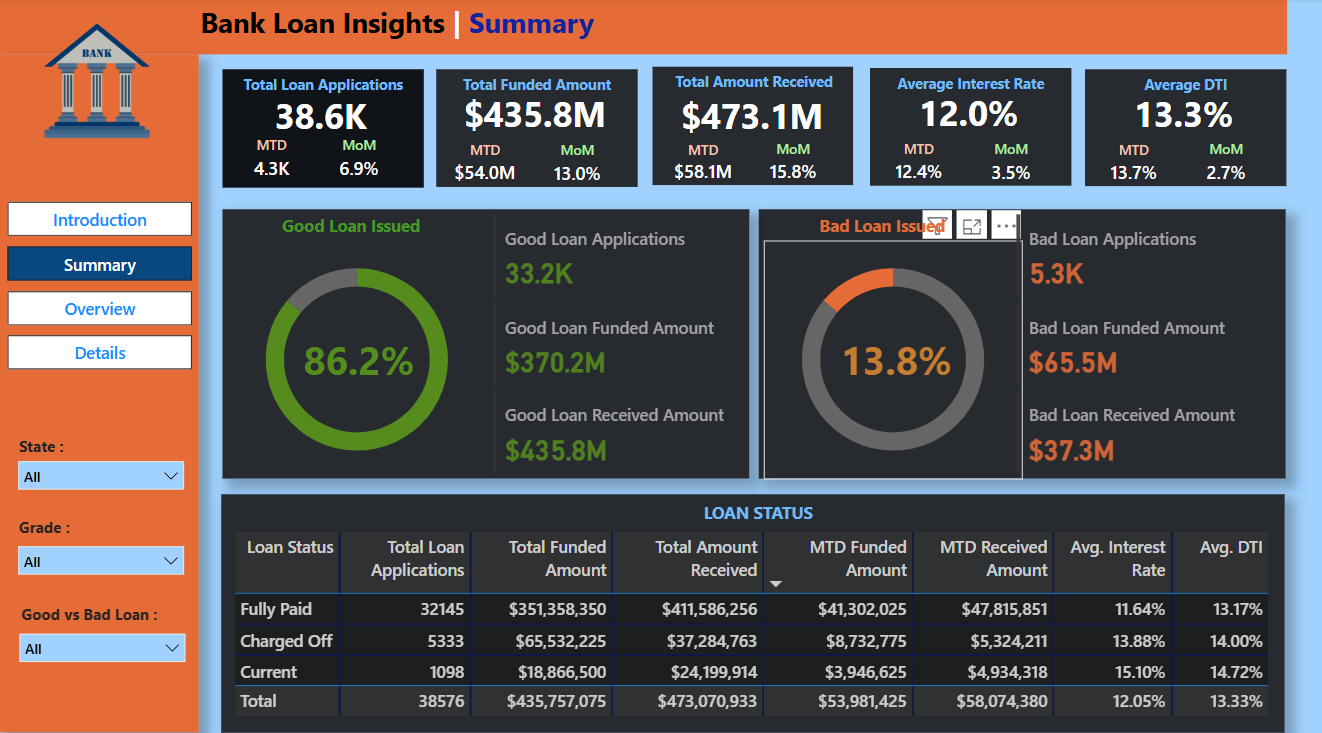

The dashboard page shown, as its layout file describes it:
{"tool":"powerbi","page":{"name":"Summary","canvas":[1280,720],"ordinal":1},"visuals":[{"type":"shape","box":[629.2,66.4,193.8,114.2],"z":0,"group":"g3"},{"type":"shape","box":[839.7,67.5,194.5,114],"z":0,"group":"g4"},{"type":"shape","box":[214.3,68.6,194.3,114.3],"z":0,"group":"g1"},{"type":"shape","box":[421.4,68.6,194.5,114],"z":0,"group":"g2"},{"type":"shape","box":[1047.1,68.6,194.5,113.1],"z":0,"group":"g5"},{"type":"shape","box":[214.3,204.3,508.6,260],"z":0},{"type":"card","fields":{"Values":["table_measures.avg_interest_rate"]},"box":[851.5,82.1,165.9,58.4],"z":1000,"group":"g4"},{"type":"card","fields":{"Values":["table_measures.avg_DTI"]},"box":[1058.9,83.1,165.9,57.9],"z":1000,"group":"g5"},{"type":"card","fields":{"Values":["table_measures.total_loan_appl"]},"box":[247.2,83.2,124.3,61.3],"z":1000,"group":"g1"},{"type":"card","fields":{"Values":["table_measures.total_funded_amt"]},"box":[433.2,83.2,165.9,58.4],"z":1000,"group":"g2"},{"type":"card","fields":{"Values":["table_measures.total_received_amt"]},"box":[643.2,85.3,163.1,55.8],"z":1000,"group":"g3"},{"type":"donutChart","fields":{"Category":["financial_loan.Good vs Band Loan"],"Y":["table_measures.total_loan_appl"]},"box":[220,234.3,250,230],"z":1000},{"type":"shape","box":[0,0,1242.3,54.5],"z":2000},{"type":"textbox","box":[632.2,67,191,41.6],"z":2000,"group":"g3"},{"type":"textbox","box":[839.7,67.5,194.5,38.9],"z":2000,"group":"g4"},{"type":"textbox","box":[214.3,68.6,194.3,39],"z":2000,"group":"g1"},{"type":"textbox","box":[421.4,68.6,194.5,38.9],"z":2000,"group":"g2"},{"type":"textbox","box":[1047.1,68.6,194.5,38.6],"z":2000,"group":"g5"},{"type":"shape","box":[0,54.7,191.9,654.7],"z":3000},{"type":"card","title":"MTD","fields":{"Values":["table_measures.MTD_loan_appl"]},"box":[235.7,132.7,51.4,50.2],"z":3000,"group":"g1"},{"type":"card","title":"MTD","fields":{"Values":["table_measures.MTD_interest_rate"]},"box":[851.5,136.3,70.1,48.6],"z":3000,"group":"g4"},{"type":"card","title":"MTD","fields":{"Values":["table_measures.MTD_avg_DTI"]},"box":[1058.9,136.9,70.1,48.3],"z":3000,"group":"g5"},{"type":"card","title":"MTD","fields":{"Values":["table_measures.MTD_received_amt"]},"box":[643.2,137.1,68.9,46.5],"z":3000,"group":"g3"},{"type":"card","title":"MTD","fields":{"Values":["table_measures.MTD_funded_amt"]},"box":[433.2,137.4,70.1,48.6],"z":3000,"group":"g2"},{"type":"card","title":"MoM","fields":{"Values":["table_measures.MOM_loan_appl"]},"box":[320,132.7,51.4,50.2],"z":4000,"group":"g1"},{"type":"card","title":"MoM","fields":{"Values":["table_measures.MOM_interest_rate"]},"box":[946.6,136.1,57.8,49.7],"z":4000,"group":"g4"},{"type":"card","title":"MoM","fields":{"Values":["table_measures.MOM_avg_DTI"]},"box":[1154,136.7,57.8,49.3],"z":4000,"group":"g5"},{"type":"card","title":"MoM","fields":{"Values":["table_measures.MOM_received_amt"]},"box":[736.7,136.9,56.8,47.5],"z":4000,"group":"g3"},{"type":"card","title":"MoM","fields":{"Values":["table_measures.MOM_funded_amt"]},"box":[528.3,137.2,57.8,49.7],"z":4000,"group":"g2"},{"type":"textbox","box":[13.8,417,119.7,38.5],"z":4000},{"type":"textbox","box":[235.7,204.3,207.1,34.3],"z":5000},{"type":"card","fields":{"Values":["table_measures.good_loan_per"]},"box":[287.1,321.4,118.6,57.1],"z":6000},{"type":"textbox","box":[188.2,0,447.6,49.5],"z":7000},{"type":"group","id":"g1","title":"Group 1","box":[214.3,68.6,194.3,114.3],"z":8000},{"type":"group","id":"g2","title":"Group 1","box":[421.4,68.6,194.3,118],"z":9000},{"type":"group","id":"g3","title":"Group 1","box":[629.2,66.4,194,118],"z":10000},{"type":"group","id":"g4","title":"Group 1","box":[839.7,67.5,194.5,118.2],"z":11000},{"type":"group","id":"g5","title":"Group 1","box":[1047.1,68.6,194.3,117.1],"z":12000},{"type":"shape","box":[732.9,204.3,508.6,260],"z":13000},{"type":"cardVisual","fields":{"Data":["table_measures.good_loan_appl","table_measures.good_loan_funded_amt","table_measures.good_loan_received_amt"]},"box":[470,204.3,252.9,260],"z":14000},{"type":"donutChart","fields":{"Category":["financial_loan.Good vs Band Loan"],"Y":["table_measures.total_loan_appl"]},"box":[737.1,234.3,250,230],"z":15000},{"type":"card","fields":{"Values":["table_measures.bad_loan_per"]},"box":[805.7,321.4,118.6,57.1],"z":16000},{"type":"textbox","box":[748.6,204.3,207.1,34.3],"z":17000},{"type":"cardVisual","fields":{"Data":["table_measures.bad_loan_appl","table_measures.bad_loan_funded_amt","table_measures.bad_loan_received_amt"]},"box":[975.7,204.3,252.9,260],"z":18000},{"type":"shape","box":[214,479.1,1026.7,230.2],"z":19000},{"type":"tableEx","fields":{"Values":["financial_loan.loan_status","table_measures.total_loan_appl","table_measures.total_funded_amt","table_measures.total_received_amt","table_measures.MTD_funded_amt","table_measures.MTD_received_amt","table_measures.avg_interest_rate","table_measures.avg_DTI"]},"box":[220.4,509.8,1008.5,200.4],"z":20000},{"type":"textbox","box":[646.8,479.8,170.3,34.5],"z":21000},{"type":"slicer","fields":{"Values":["financial_loan.address_state"]},"box":[6.9,436.3,180.3,50.9],"z":22000},{"type":"slicer","fields":{"Values":["financial_loan.grade"]},"box":[6.9,518.9,180.3,50.9],"z":23000},{"type":"textbox","box":[13.8,495.5,119.7,38.5],"z":24000},{"type":"pageNavigator","box":[6.9,196.8,178.9,163.8],"z":25000},{"type":"image","box":[0,1.4,187.2,156.9],"z":26000},{"type":"slicer","fields":{"Values":["financial_loan.Good vs Band Loan"]},"box":[8.3,602.8,180.3,50.9],"z":27000},{"type":"textbox","box":[15.1,579.4,163.8,38.5],"z":28000}]}

Visuals, with their boxes in screenshot pixels (x1, y1, x2, y2), scaled from the page's 1280x720 canvas onto the 1322x733 screenshot:
shape: box=[650, 68, 850, 184]
shape: box=[867, 69, 1068, 185]
shape: box=[221, 70, 422, 186]
shape: box=[435, 70, 636, 186]
shape: box=[1081, 70, 1282, 185]
shape: box=[221, 208, 747, 473]
card - table_measures.avg_interest_rate: box=[879, 84, 1051, 143]
card - table_measures.avg_DTI: box=[1094, 85, 1265, 144]
card - table_measures.total_loan_appl: box=[255, 85, 384, 147]
card - table_measures.total_funded_amt: box=[447, 85, 619, 144]
card - table_measures.total_received_amt: box=[664, 87, 833, 144]
donutChart - financial_loan.Good vs Band Loan x table_measures.total_loan_appl: box=[227, 239, 485, 473]
shape: box=[0, 0, 1283, 55]
textbox: box=[653, 68, 850, 111]
textbox: box=[867, 69, 1068, 108]
textbox: box=[221, 70, 422, 110]
textbox: box=[435, 70, 636, 109]
textbox: box=[1081, 70, 1282, 109]
shape: box=[0, 56, 198, 722]
"MTD" card: box=[243, 135, 297, 186]
"MTD" card: box=[879, 139, 952, 188]
"MTD" card: box=[1094, 139, 1166, 189]
"MTD" card: box=[664, 140, 735, 187]
"MTD" card: box=[447, 140, 520, 189]
"MoM" card: box=[330, 135, 384, 186]
"MoM" card: box=[978, 139, 1037, 189]
"MoM" card: box=[1192, 139, 1252, 189]
"MoM" card: box=[761, 139, 820, 188]
"MoM" card: box=[546, 140, 605, 190]
textbox: box=[14, 425, 138, 464]
textbox: box=[243, 208, 457, 243]
card - table_measures.good_loan_per: box=[297, 327, 419, 385]
textbox: box=[194, 0, 657, 50]
"Group 1" group: box=[221, 70, 422, 186]
"Group 1" group: box=[435, 70, 636, 190]
"Group 1" group: box=[650, 68, 850, 188]
"Group 1" group: box=[867, 69, 1068, 189]
"Group 1" group: box=[1081, 70, 1282, 189]
shape: box=[757, 208, 1282, 473]
cardVisual - table_measures.good_loan_appl x table_measures.good_loan_funded_amt: box=[485, 208, 747, 473]
donutChart - financial_loan.Good vs Band Loan x table_measures.total_loan_appl: box=[761, 239, 1019, 473]
card - table_measures.bad_loan_per: box=[832, 327, 955, 385]
textbox: box=[773, 208, 987, 243]
cardVisual - table_measures.bad_loan_appl x table_measures.bad_loan_funded_amt: box=[1008, 208, 1269, 473]
shape: box=[221, 488, 1281, 722]
tableEx - financial_loan.loan_status x table_measures.total_loan_appl: box=[228, 519, 1269, 723]
textbox: box=[668, 488, 844, 524]
slicer - financial_loan.address_state: box=[7, 444, 193, 496]
slicer - financial_loan.grade: box=[7, 528, 193, 580]
textbox: box=[14, 504, 138, 544]
pageNavigator: box=[7, 200, 192, 367]
image: box=[0, 1, 193, 161]
slicer - financial_loan.Good vs Band Loan: box=[9, 614, 195, 666]
textbox: box=[16, 590, 185, 629]
